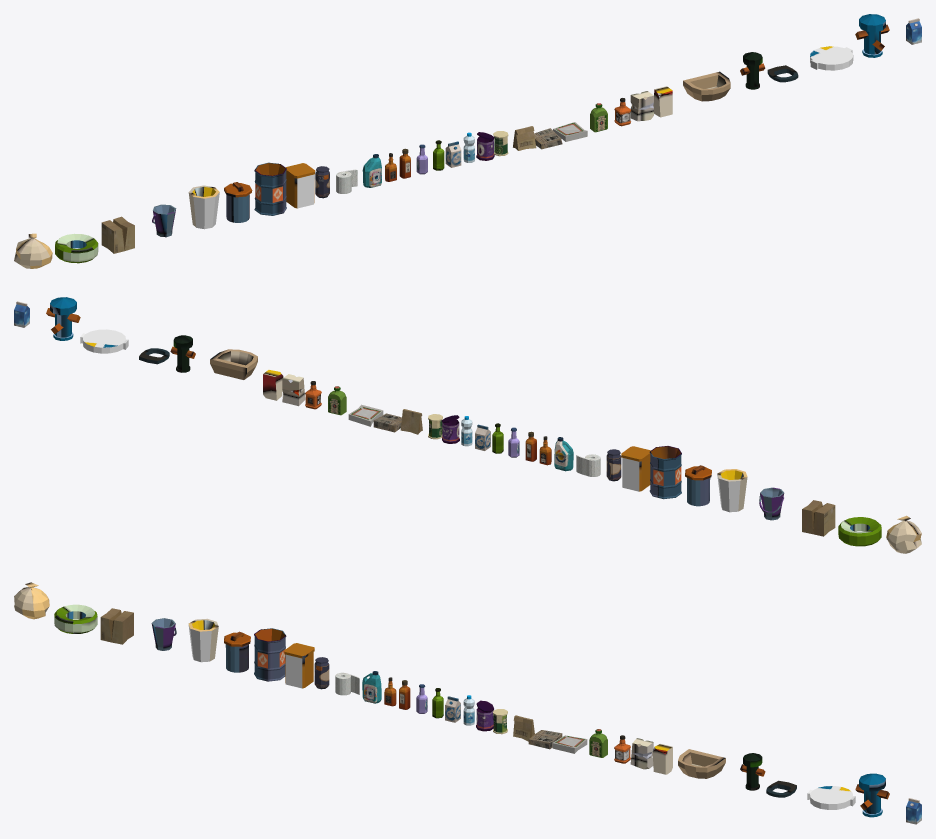
File: GarbageCommon_32items.fbx
3 renders of one model, top to bottom at view 1: azimuth 30°, elevation 25°; view 2: azimuth 150°, elevation 25°; view 3: azimuth 330°, elevation 25°, orthographic.
Parts seen in each view (by area): view 1: G17, G16, G19, G23, G31, G22, G33, G21, G18, G28, G26, G30 (+3 smaller); view 2: G17, G16, G31, G19, G23, G22, G33, G28, G21, G18, G20, G26 (+3 smaller); view 3: G17, G16, G19, G23, G31, G22, G33, G21, G28, G18, G20, G30 (+5 smaller).
Boxes of the visible parts, bbox=[...] form: G17: bbox=[254, 162, 286, 215]; G16: bbox=[285, 163, 315, 208]; G19: bbox=[188, 185, 219, 229]; G23: bbox=[55, 233, 98, 263]; G31: bbox=[683, 71, 730, 101]; G22: bbox=[101, 216, 134, 253]; G33: bbox=[855, 14, 889, 57]; G21: bbox=[14, 233, 52, 268]; G18: bbox=[224, 182, 252, 222]; G28: bbox=[810, 46, 853, 70]; G26: bbox=[630, 91, 653, 121]; G30: bbox=[740, 52, 765, 89]; G17: bbox=[649, 446, 681, 499]; G16: bbox=[621, 446, 650, 491]; G31: bbox=[210, 349, 257, 379]; G19: bbox=[717, 469, 747, 512]; G23: bbox=[838, 517, 881, 546]; G22: bbox=[802, 500, 835, 536]; G33: bbox=[46, 297, 80, 340]; G28: bbox=[80, 329, 128, 353]; G21: bbox=[886, 515, 921, 553]; G18: bbox=[685, 465, 711, 506]; G20: bbox=[759, 487, 784, 520]; G26: bbox=[282, 374, 305, 406]; G17: bbox=[254, 628, 286, 681]; G16: bbox=[284, 643, 314, 688]; G19: bbox=[188, 618, 218, 662]; G23: bbox=[54, 604, 97, 633]; G31: bbox=[678, 749, 725, 778]; G22: bbox=[100, 608, 133, 644]; G33: bbox=[855, 773, 889, 817]; G21: bbox=[14, 582, 49, 619]; G28: bbox=[807, 786, 855, 809]; G18: bbox=[224, 631, 250, 672]; G20: bbox=[151, 618, 176, 650]; G30: bbox=[740, 753, 765, 790].
Size of what is drawn, in the model's own units: 244 by 12.52 by 11.67.
